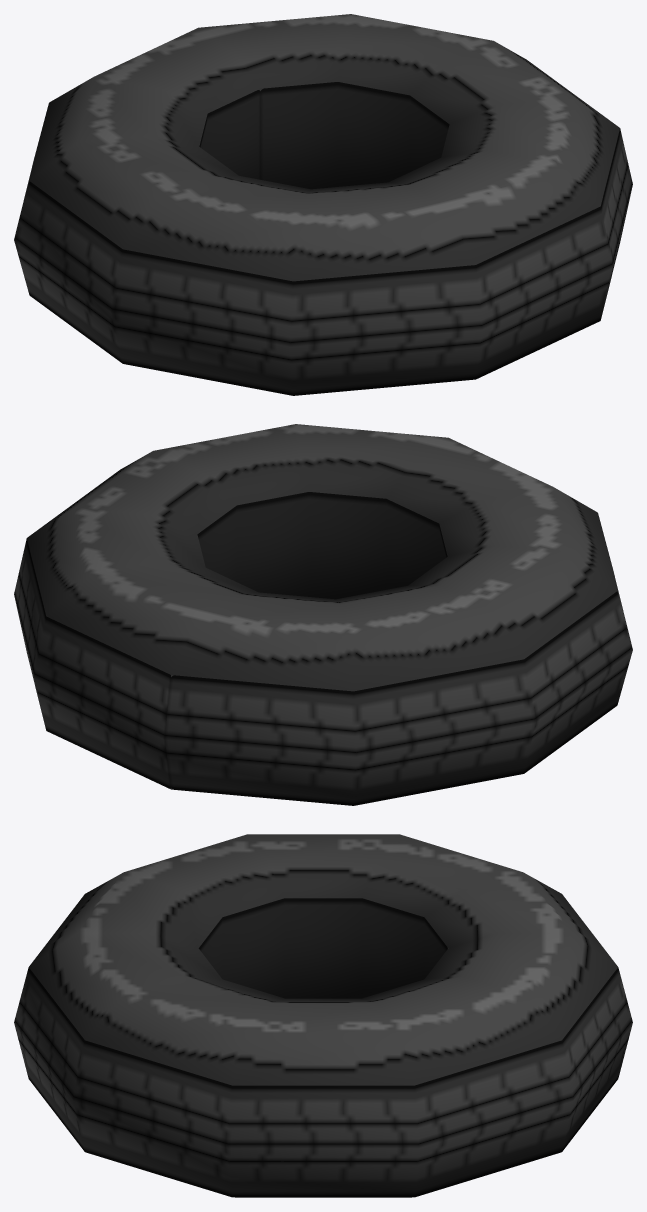
Rendered from Prop_Pneumatico.fbx.
The picture shows the model from 3 angles, top to bottom: view 1: azimuth 30°, elevation 25°; view 2: azimuth 150°, elevation 25°; view 3: azimuth 270°, elevation 25°; orthographic projection. The views are drawn at different scales.
Parts seen in each view (by area): view 1: Pneumatico; view 2: Pneumatico; view 3: Pneumatico.
Part boxes in pixels (box(x1,y1,x2,y2)): Pneumatico: box(14, 14, 632, 395); Pneumatico: box(14, 424, 632, 805); Pneumatico: box(14, 834, 632, 1197).
Bounding box in the file's own units: 1.02 × 0.3149 × 1.07.
Materials: 1 (1 with a texture image).
